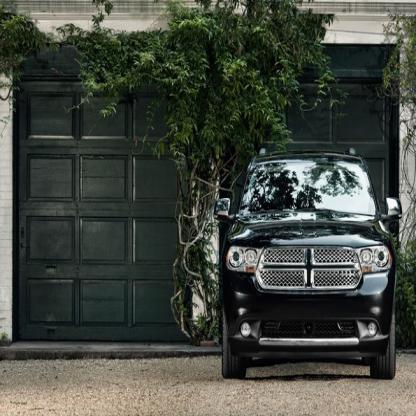Vehicle: (220, 146, 404, 382)
